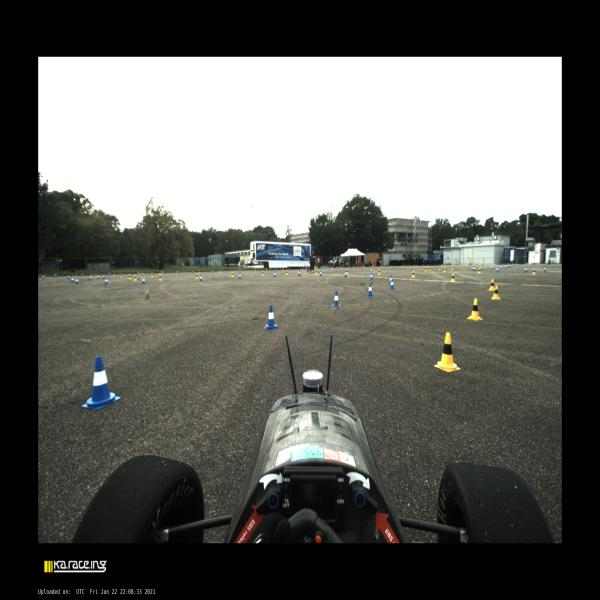blue_cone: (82, 356, 121, 409), (265, 305, 278, 330), (332, 291, 341, 308), (366, 283, 374, 296), (389, 279, 395, 289), (104, 276, 108, 285), (141, 277, 146, 284), (369, 272, 373, 280), (199, 274, 203, 282), (344, 270, 347, 278), (319, 270, 323, 276), (238, 273, 242, 279), (75, 278, 79, 284), (524, 266, 528, 272), (88, 275, 92, 281), (389, 275, 391, 284), (298, 270, 301, 276), (496, 266, 499, 272), (490, 264, 493, 270), (71, 277, 74, 283), (42, 274, 45, 280), (54, 272, 57, 278), (97, 274, 100, 279), (102, 274, 105, 279), (274, 272, 276, 278), (500, 264, 502, 270), (544, 266, 546, 272), (67, 275, 70, 279), (474, 266, 476, 272), (472, 266, 474, 270), (109, 272, 111, 276), (177, 270, 179, 274), (480, 266, 482, 270), (505, 264, 507, 268), (239, 269, 241, 272), (266, 268, 268, 271), (370, 265, 372, 268), (422, 264, 424, 267), (494, 263, 496, 266), (502, 263, 504, 266), (509, 264, 511, 267), (324, 266, 325, 270), (349, 266, 351, 268), (381, 264, 382, 268), (513, 264, 515, 266), (517, 264, 519, 266), (82, 273, 83, 276), (212, 270, 213, 273), (306, 267, 307, 270), (336, 266, 337, 269), (409, 264, 410, 267), (508, 264, 509, 267), (512, 263, 513, 266), (193, 271, 194, 273), (289, 268, 290, 270), (394, 265, 395, 267)
large_orange_cone: (362, 264, 364, 268), (372, 264, 374, 268)
yellow_cone: (434, 332, 461, 372), (467, 298, 483, 321), (492, 285, 500, 300), (489, 279, 494, 291), (450, 273, 455, 282), (158, 274, 163, 281), (377, 268, 381, 275), (133, 274, 137, 281), (128, 273, 132, 280), (532, 268, 536, 275), (412, 270, 415, 278), (230, 272, 234, 278), (477, 268, 481, 274), (443, 266, 446, 273), (195, 273, 198, 279), (151, 272, 154, 278), (315, 269, 318, 274), (347, 268, 349, 274), (262, 270, 264, 276), (451, 266, 454, 270), (438, 266, 441, 270), (428, 266, 430, 272), (425, 266, 427, 272), (94, 274, 97, 278), (286, 270, 288, 275), (120, 273, 122, 278), (141, 273, 143, 278), (463, 265, 465, 269), (90, 273, 92, 277), (198, 270, 200, 274), (391, 264, 393, 268), (402, 264, 404, 268), (113, 273, 115, 276), (219, 270, 221, 273), (428, 264, 430, 267), (485, 264, 487, 267), (255, 268, 256, 272), (301, 268, 303, 270), (364, 266, 366, 268), (176, 271, 177, 274), (341, 266, 342, 269), (162, 272, 163, 274), (283, 268, 284, 270), (353, 266, 354, 268), (416, 265, 417, 267), (467, 264, 468, 266), (455, 264, 456, 266)
